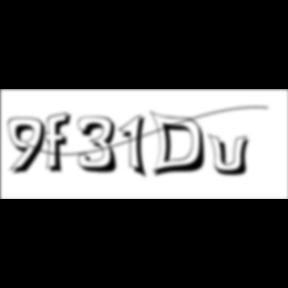1: (118, 114, 153, 182)
3: (78, 116, 124, 176)
9: (8, 117, 53, 177)
D: (150, 110, 212, 180)
f: (44, 111, 78, 175)
u: (208, 132, 256, 178)
